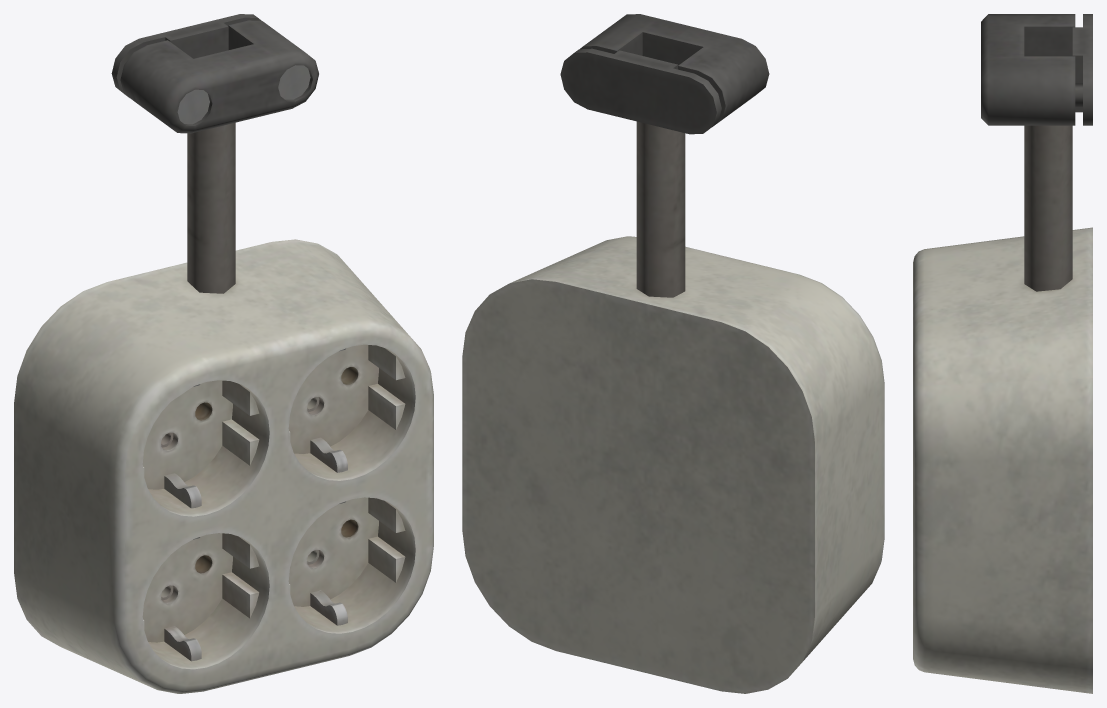
The model's file is cable_plug_4x.gltf.
The picture shows the model from 3 angles, left to right: view 1: azimuth 30°, elevation 25°; view 2: azimuth 150°, elevation 25°; view 3: azimuth 270°, elevation 25°; orthographic projection.
Visible parts, largest first — view 1: cable_plug_4x; view 2: cable_plug_4x; view 3: cable_plug_4x.
Boxes of the visible parts, x1,y1,x2,y2 form: cable_plug_4x: (14, 14, 433, 693); cable_plug_4x: (462, 14, 884, 693); cable_plug_4x: (913, 14, 1092, 693).
Bounding box in the file's own units: 0.0939 × 0.1542 × 0.0417.
Materials: 1 (1 with a texture image).
